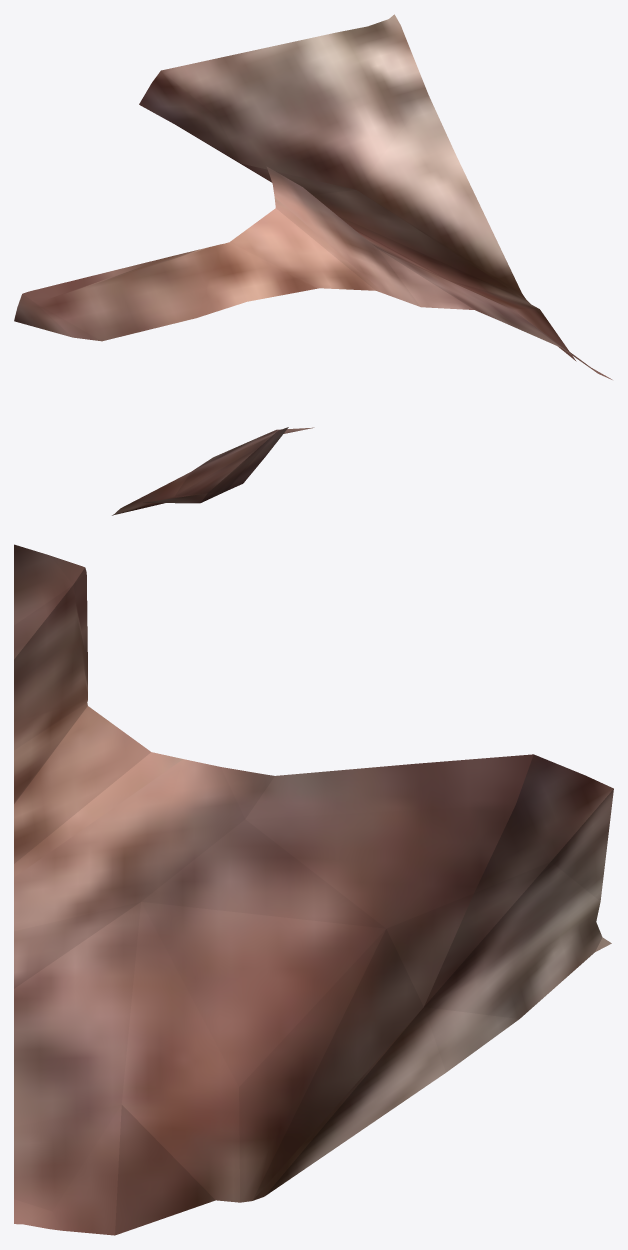
The picture shows the model from 3 angles, top to bottom: view 1: azimuth 30°, elevation 25°; view 2: azimuth 150°, elevation 25°; view 3: azimuth 270°, elevation 25°; orthographic projection. The views are drawn at different scales.
Size of the model in its own units: 0.2523 by 0.0861 by 0.1603.
1 material, 1 textured.
